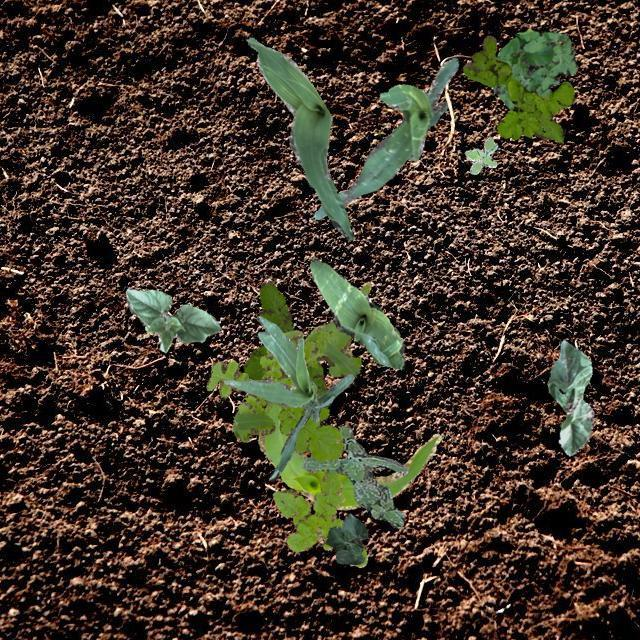crop: (258, 281, 442, 508), (312, 56, 458, 218), (222, 314, 354, 480), (245, 36, 352, 240), (308, 256, 404, 368), (124, 288, 220, 352), (546, 338, 592, 454), (324, 512, 366, 564)
weed: (206, 328, 360, 461), (462, 35, 572, 142), (300, 424, 408, 528), (242, 278, 326, 396), (272, 469, 366, 566), (492, 29, 576, 110), (464, 136, 496, 173)
